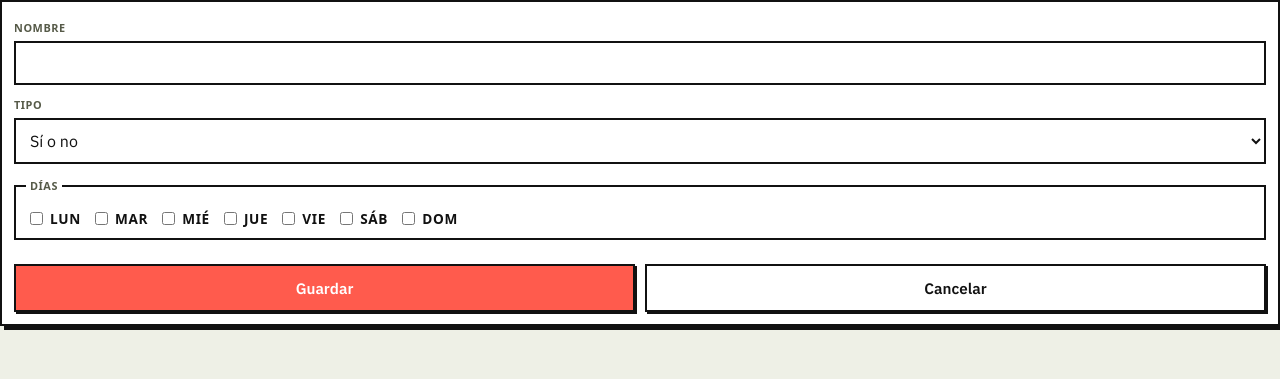
Test case: HabitForm › avisa si no se marca ningún día
The width and height of the screenshot is (1280, 379).
Step 1. Type "Meditar" into the field labelled "Nombre" → (640, 63), box [14,41,1266,85]
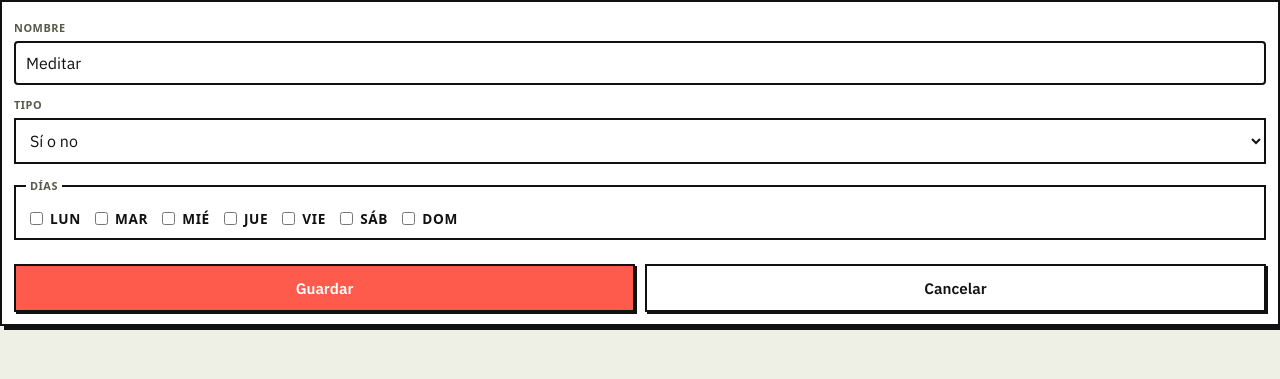
Step 2. Click the button "Guardar" → click(324, 288), box [14,264,635,312]
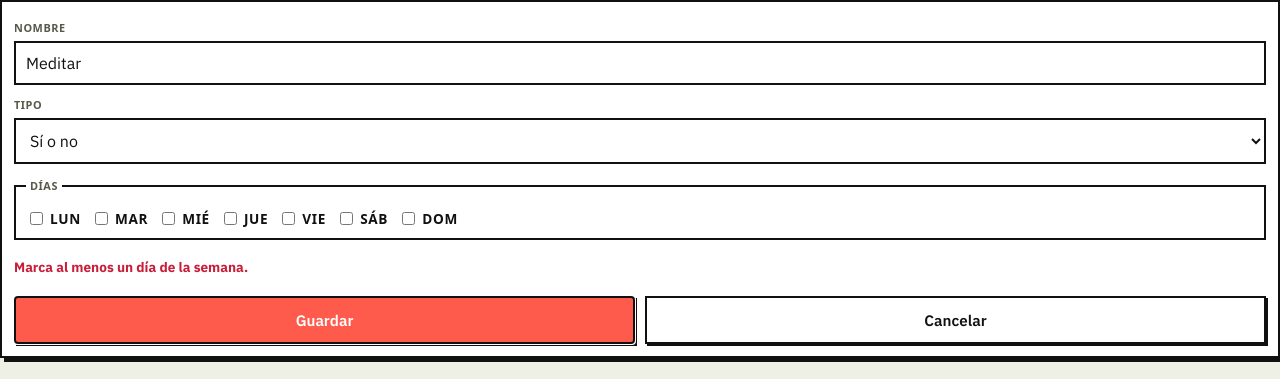
Now the text "Marca al menos un día de la semana." is shown, box [14,258,248,276]
